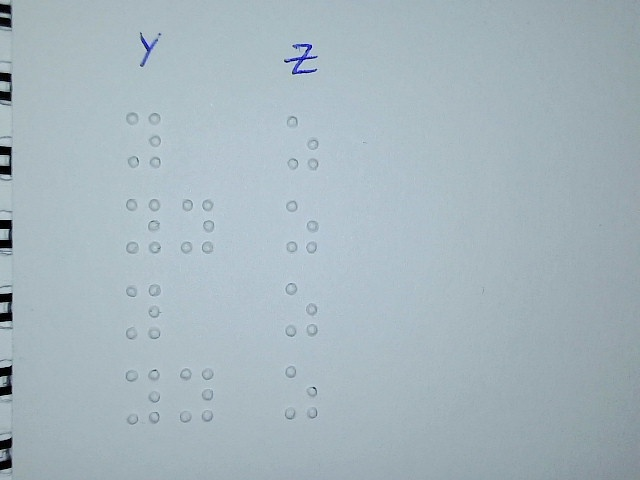Y: (125, 110, 163, 169), (178, 196, 216, 255), (125, 281, 163, 340), (178, 364, 216, 423), (124, 366, 162, 425)
Z: (284, 113, 322, 172), (284, 198, 320, 256), (283, 280, 319, 338), (283, 363, 319, 421)
